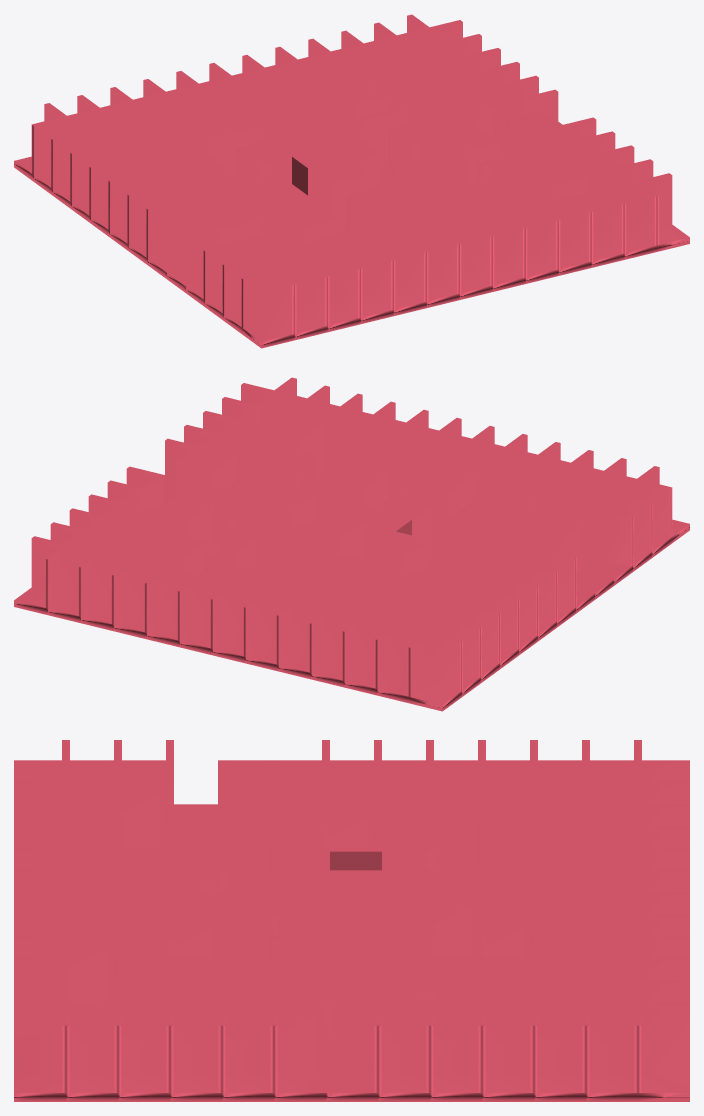
The model's file is Maze2.glb.
3 renders of one model, top to bottom at view 1: azimuth 30°, elevation 25°; view 2: azimuth 150°, elevation 25°; view 3: azimuth 270°, elevation 25°, orthographic. The views are drawn at different scales.
Visible parts, largest first — view 1: Cube; view 2: Cube, Cube.001; view 3: Cube, Cube.004, Cube.007, Cube.010.
Part boxes in pixels (bbox=[...]): Cube: bbox=[14, 14, 689, 348]; Cube: bbox=[14, 377, 689, 711]; Cube.001: bbox=[585, 559, 630, 578]; Cube: bbox=[14, 740, 689, 1101]; Cube.004: bbox=[330, 1072, 373, 1092]; Cube.007: bbox=[330, 1050, 373, 1069]; Cube.010: bbox=[330, 1028, 373, 1047].
Size of the model in its own units: 111 by 13.84 by 111.
